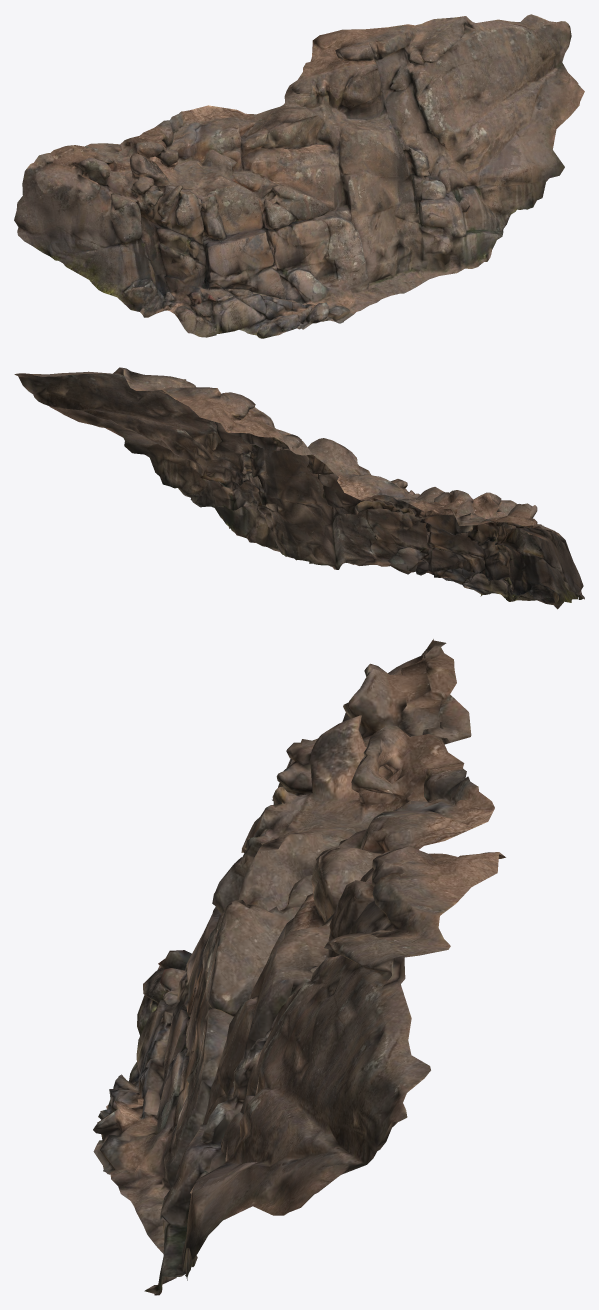
File: namaqualand_cliff_02_lod0.glb
3 renders of one model, top to bottom at view 1: azimuth 30°, elevation 25°; view 2: azimuth 150°, elevation 25°; view 3: azimuth 270°, elevation 25°, orthographic. The views are drawn at different scales.
Visible parts, largest first — view 1: drone_rock_02_LOD0; view 2: drone_rock_02_LOD0; view 3: drone_rock_02_LOD0.
Boxes of the visible parts, x1,y1,x2,y2 form: drone_rock_02_LOD0: [14, 14, 584, 338]; drone_rock_02_LOD0: [14, 367, 584, 609]; drone_rock_02_LOD0: [93, 639, 505, 1295].
Bounding box in the file's own units: 20.22 × 7.17 × 6.58.
Materials: 1 (1 with a texture image).
